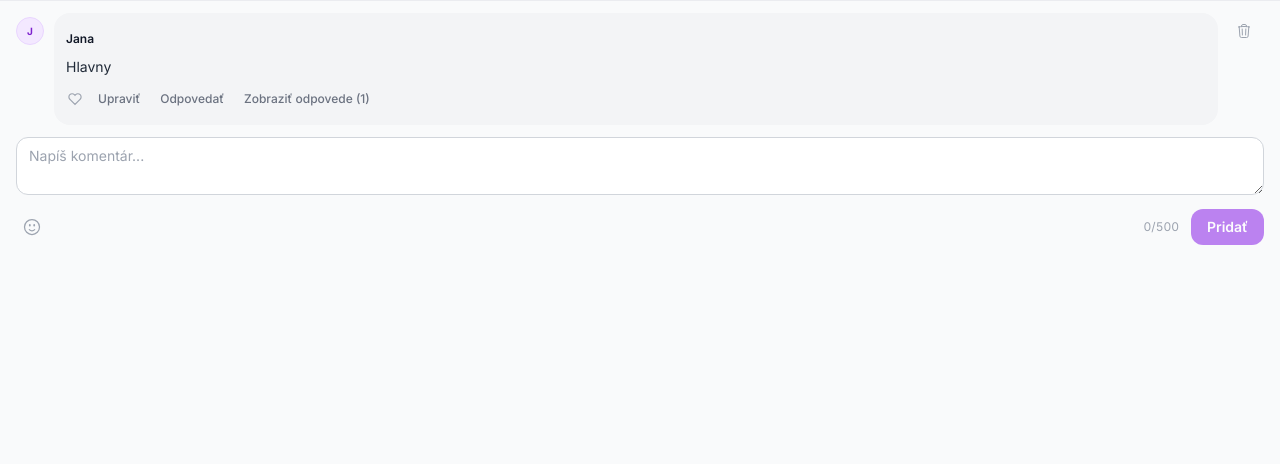
inline úprava › saves an edited reply under the right parent
The image size is (1280, 464).
Expected: the text "Hlavny" is shown, [66,58,111,75]
Click the button with test id "feed-comment-toggle-replies-1".
click(307, 99)  # box [238,81,376,117]
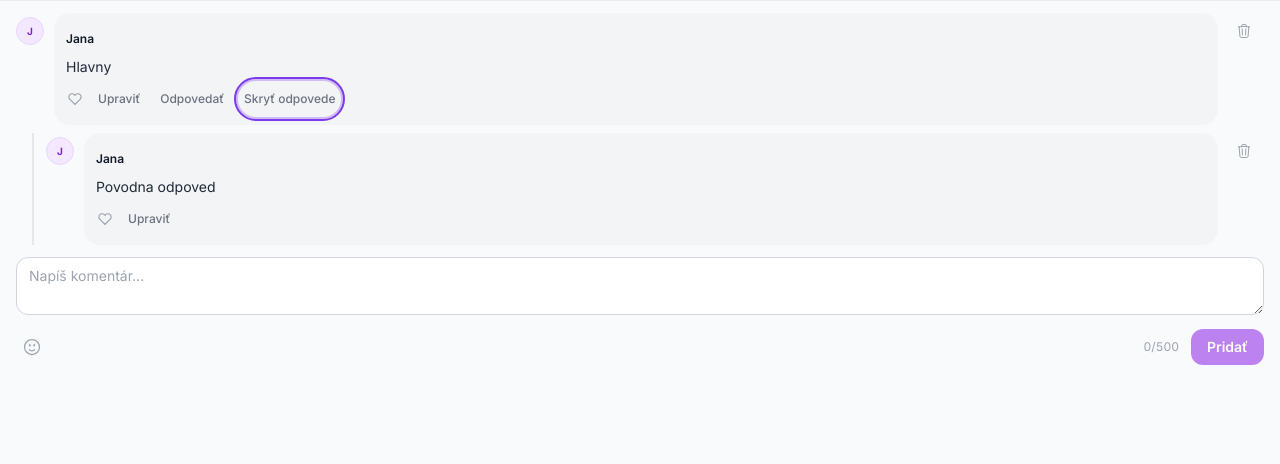
Click the button with test id "feed-comment-edit-2".
click(149, 219)  # box [122,201,176,237]
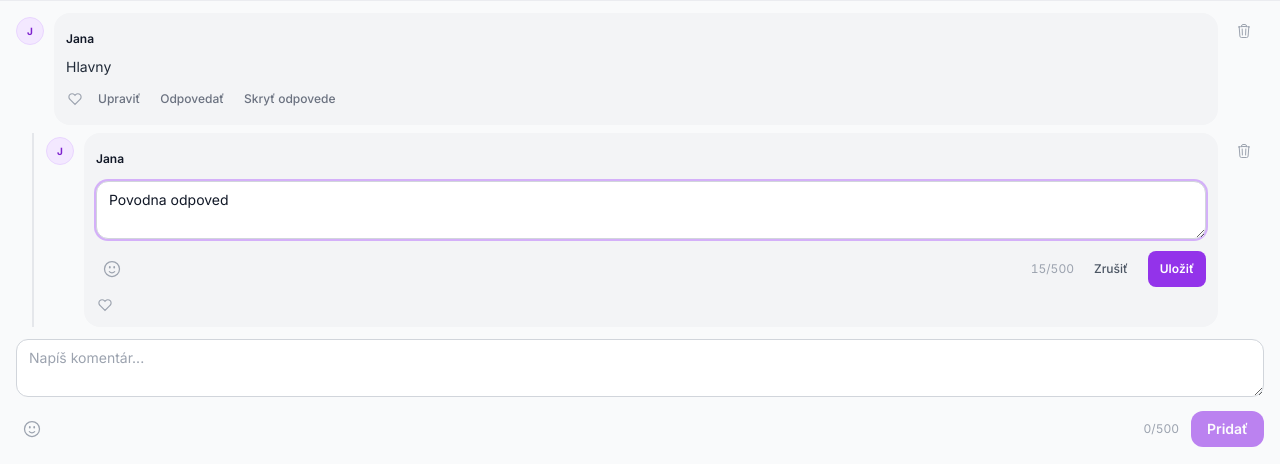
Replace the text in the text box named "Upraviť" with "Upravena odpoved" at (651, 210), box [96,181,1206,239]
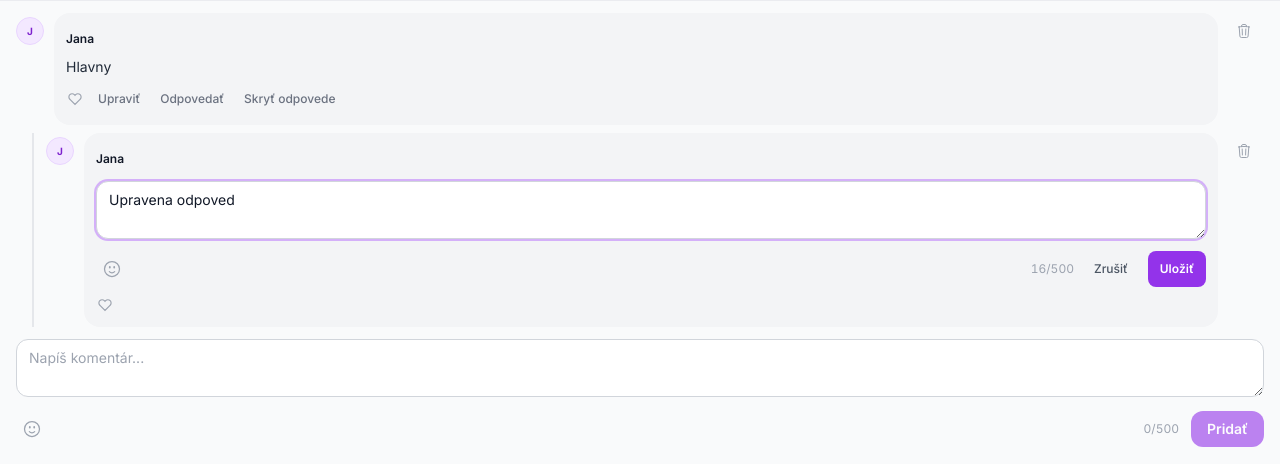
Click the button with test id "feed-comment-edit-submit".
click(1177, 268)  # box [1148,250,1206,286]
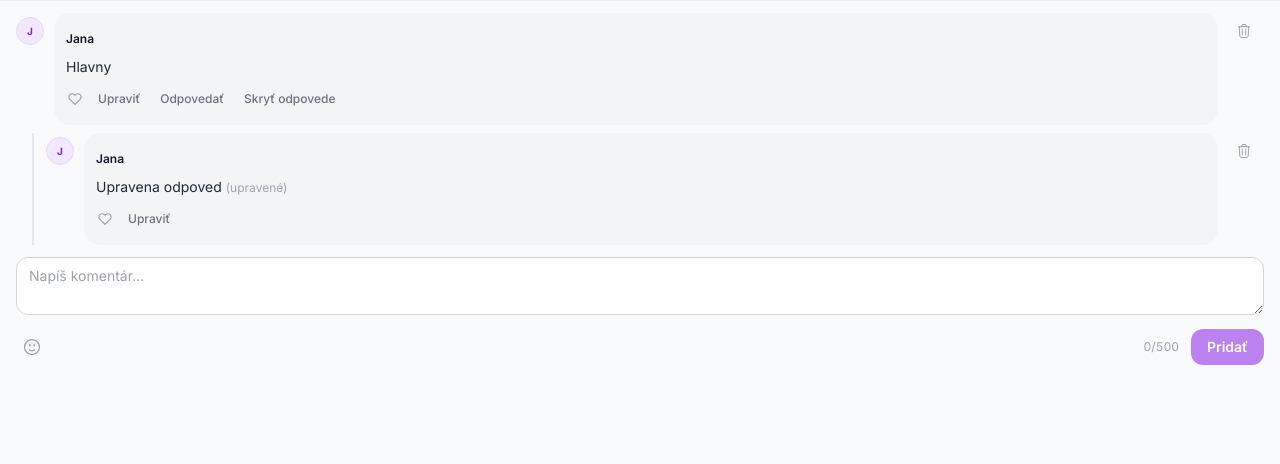
Expected: the text "Hlavny" is shown, [66,58,111,75]
Expected: the text "Upravena odpoved" is shown, [96,178,222,195]
